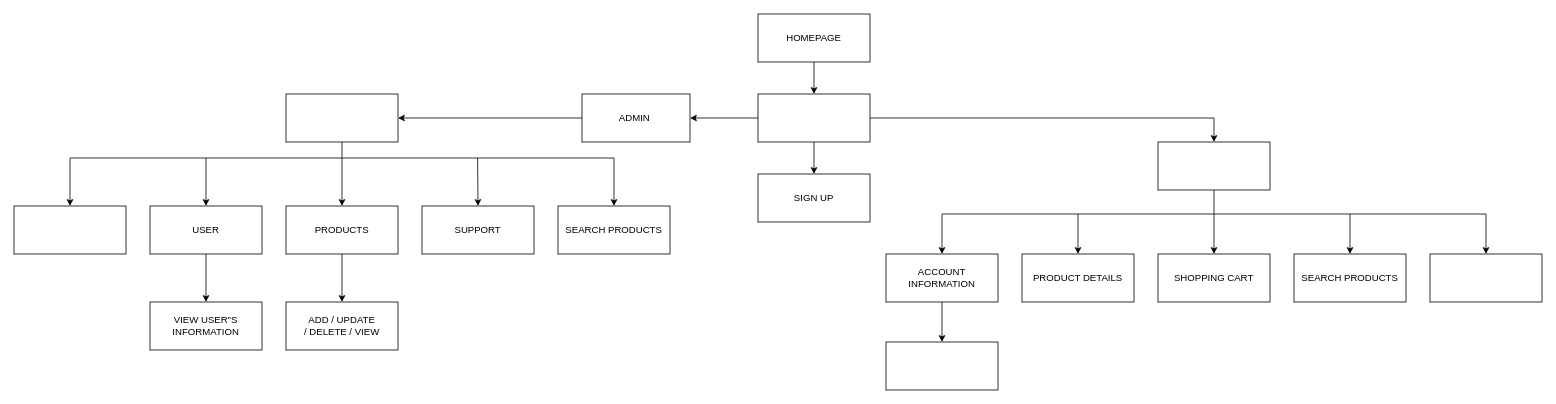
The diagram is 1556 pixels wide and 404 high, and some of its shapes have lost their labels. Each missing label, with the box of its shape:
ADMIN HOMEPAGE: (285, 93, 398, 142)
CHANGE PASSWORD: (885, 341, 998, 390)
CONTACT: (1429, 253, 1542, 302)
CUSTOMER / USER HOMEPAGE: (1157, 141, 1270, 190)
INVOICE: (13, 205, 126, 254)
LOGIN: (757, 93, 870, 142)
